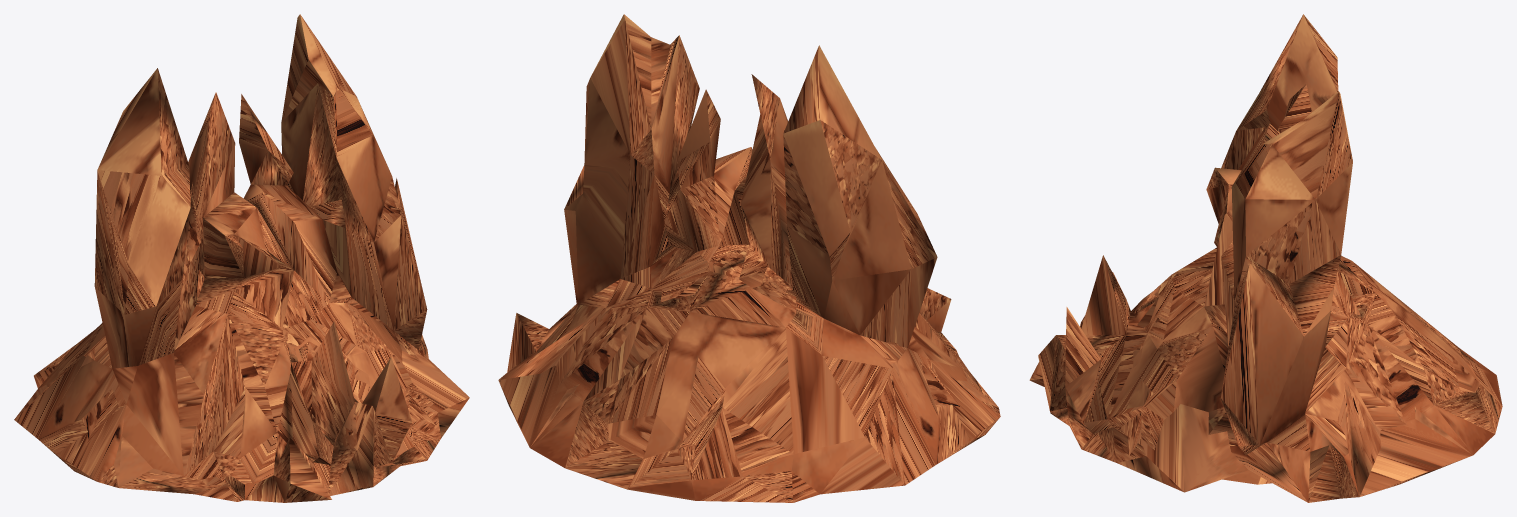
The model's file is cover_half_temple_v6_lod1.glb.
3 renders of one model, left to right at view 1: azimuth 30°, elevation 25°; view 2: azimuth 150°, elevation 25°; view 3: azimuth 270°, elevation 25°, orthographic. The views are drawn at different scales.
Visible parts, largest first — view 1: Mesh_0; view 2: Mesh_0; view 3: Mesh_0.
Boxes of the visible parts, box(x1,y1,x2,y2) form: Mesh_0: box(14, 14, 469, 502); Mesh_0: box(498, 14, 1000, 502); Mesh_0: box(1029, 14, 1502, 502).
Bounding box in the file's own units: 0.9196 × 0.7984 × 0.9515.
1 material, 1 textured.
